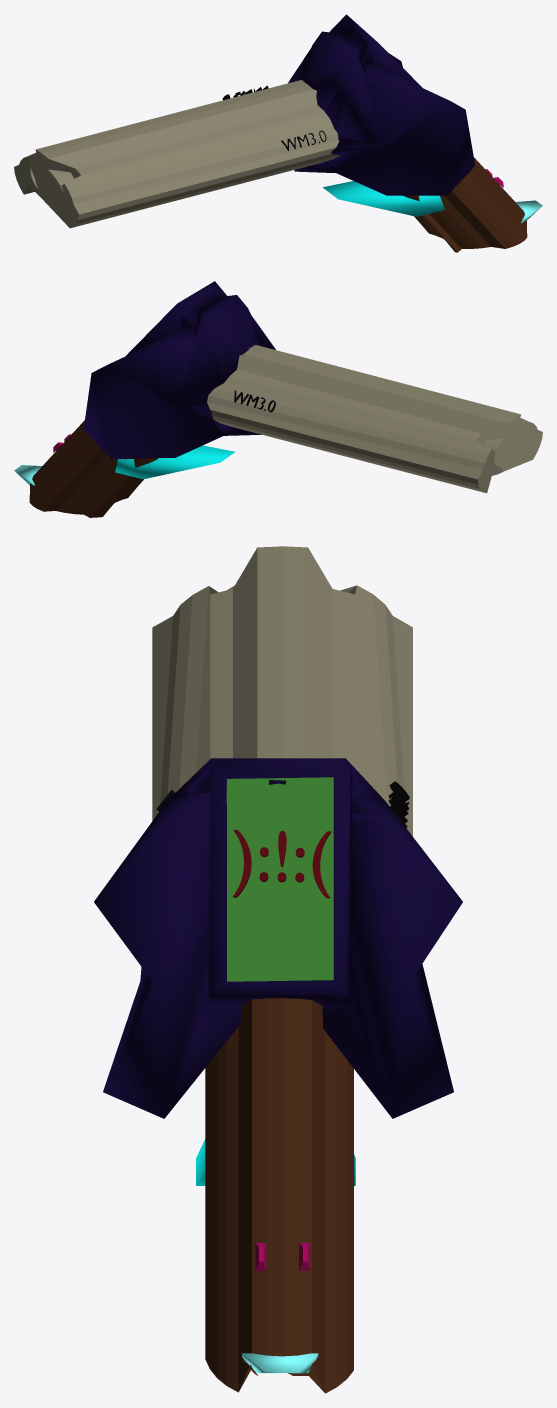
File: GON.fbx
3 views of the same model, one above another, from view 1: azimuth 30°, elevation 25°; view 2: azimuth 150°, elevation 25°; view 3: azimuth 270°, elevation 25° (orthographic). The views are drawn at different scales.
Visible parts, largest first — view 1: Cylinder, Icosphere, Cylinder.001, Cube.002, Cube.003; view 2: Cylinder, Icosphere, Cylinder.001, Cube.002, Cube.003, Text; view 3: Icosphere, Cylinder.001, Cylinder, Cube.001, Text.002, Cube.003.
Part boxes in pixels (box(x1,y1,x2,y2)): Cylinder: box(14, 80, 340, 228); Icosphere: box(288, 14, 475, 195); Cylinder.001: box(403, 157, 527, 252); Cube.002: box(323, 181, 444, 216); Cube.003: box(515, 200, 542, 223); Cylinder: box(207, 345, 542, 493); Icosphere: box(83, 281, 275, 458); Cylinder.001: box(29, 420, 158, 517); Cube.002: box(115, 445, 235, 479); Cube.003: box(14, 465, 41, 485); Text: box(234, 390, 275, 412); Icosphere: box(94, 758, 462, 1118); Cylinder.001: box(205, 998, 353, 1393); Cylinder: box(152, 546, 412, 836); Cube.001: box(226, 777, 333, 981); Text.002: box(233, 829, 331, 898); Cube.003: box(242, 1353, 318, 1373).
Size of the model in its own units: 529 by 245 by 170.
